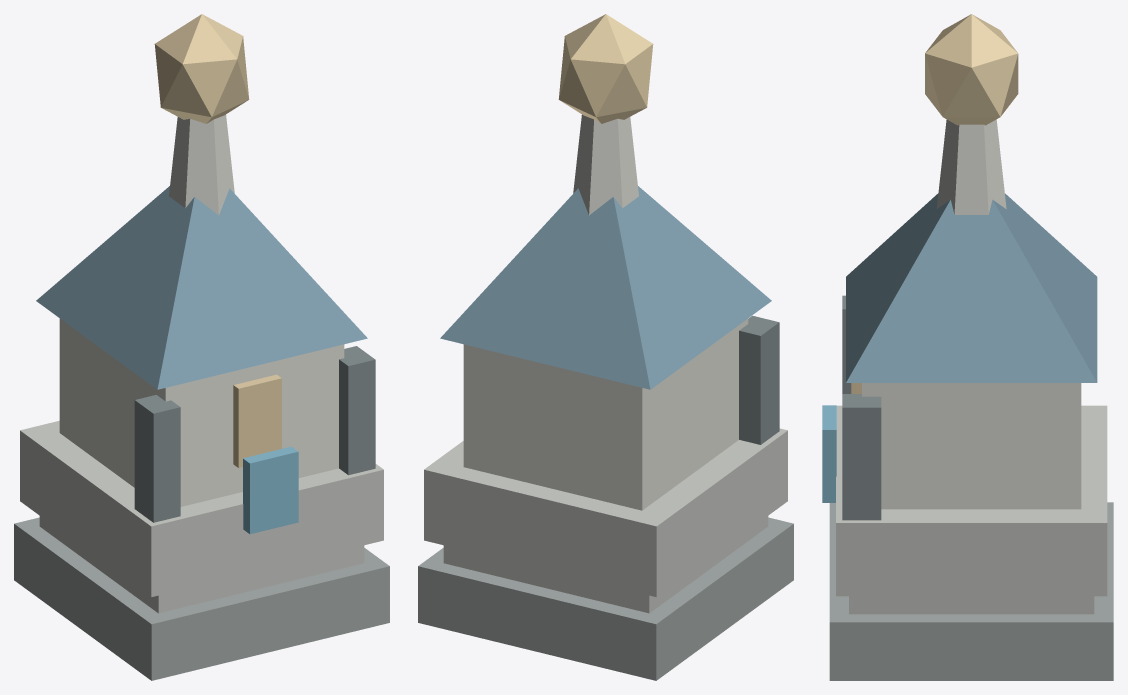
File: human_temple_t3.glb
3 renders of one model, left to right at view 1: azimuth 30°, elevation 25°; view 2: azimuth 150°, elevation 25°; view 3: azimuth 270°, elevation 25°, orthographic. The views are drawn at different scales.
Parts seen in each view (by area): view 1: human_temple_t3_MAT_roof, human_temple_t3_MAT_stone, human_temple_t3_MAT_light, human_temple_t3_MAT_dark, human_temple_t3_MAT_gold, human_temple_t3_MAT_iron, human_temple_t3_MAT_blue; view 2: human_temple_t3_MAT_light, human_temple_t3_MAT_roof, human_temple_t3_MAT_stone, human_temple_t3_MAT_dark, human_temple_t3_MAT_gold, human_temple_t3_MAT_iron; view 3: human_temple_t3_MAT_roof, human_temple_t3_MAT_stone, human_temple_t3_MAT_light, human_temple_t3_MAT_dark, human_temple_t3_MAT_gold, human_temple_t3_MAT_iron, human_temple_t3_MAT_blue.
Part boxes in pixels (x1,y1,x2,y2): human_temple_t3_MAT_roof: (36,186,367,389); human_temple_t3_MAT_stone: (20,420,383,613); human_temple_t3_MAT_light: (59,114,344,506); human_temple_t3_MAT_dark: (14,517,389,680); human_temple_t3_MAT_gold: (154,14,281,467); human_temple_t3_MAT_iron: (134,346,375,522); human_temple_t3_MAT_blue: (243,446,298,534); human_temple_t3_MAT_light: (463,114,748,510); human_temple_t3_MAT_roof: (440,186,771,389); human_temple_t3_MAT_stone: (424,428,787,613); human_temple_t3_MAT_dark: (418,517,793,680); human_temple_t3_MAT_gold: (558,14,653,123); human_temple_t3_MAT_iron: (739,315,779,444); human_temple_t3_MAT_roof: (846,193,1097,382); human_temple_t3_MAT_stone: (836,405,1107,614); human_temple_t3_MAT_light: (862,119,1081,509); human_temple_t3_MAT_dark: (829,502,1113,680); human_temple_t3_MAT_gold: (851,14,1018,393); human_temple_t3_MAT_iron: (842,295,881,520); human_temple_t3_MAT_blue: (822,405,836,502).
Size of the model in its own units: 0.88 by 2.07 by 0.9025.
